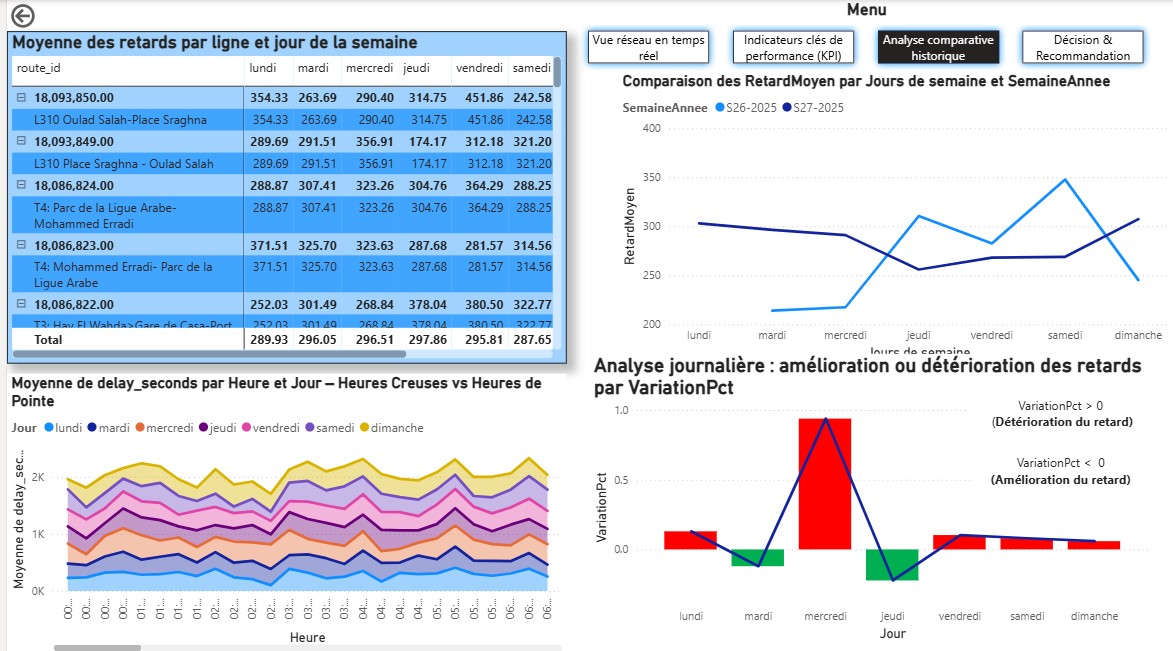

This screenshot's page, from the dashboard's own definition file:
{"tool":"powerbi","page":{"name":"Analyse comparative historique","canvas":[1280,720],"ordinal":2},"visuals":[{"type":"lineChart","title":"Comparaison des RetardMoyen par Jours de semaine et SemaineAnnee","fields":{"Y":["Trips.RetardMoyen"],"Series":["Trips.SemaineAnnee"],"Category":["Trips.Jour"]},"box":[671.7,78.3,608.3,321.7],"z":0},{"type":"pivotTable","title":"Moyenne des retards par ligne et jour de la semaine","fields":{"Rows":["Route.route_id","Route.route_name"],"Columns":["Trips.Jour"],"Values":["Trips.RetardMoyen"]},"box":[0,34.3,614.8,365],"z":1000},{"type":"stackedAreaChart","title":"Moyenne de delay_seconds par Heure et Jour – Heures Creuses vs Heures de Pointe","fields":{"Category":["Trips.Heure"],"Series":["Trips.Jour"],"Y":["Avg(Trips.delay_seconds)"]},"box":[0,410.3,614.8,310.1],"z":2000},{"type":"lineStackedColumnComboChart","title":"Analyse journalière : amélioration ou détérioration des retards par VariationPct","fields":{"Category":["Trips.Jour"],"Y":["Trips.VariationPct"],"Y2":["Trips.VariationPct"]},"box":[640,388.8,618.8,320],"z":3000},{"type":"shape","box":[1075.8,440.5,12.3,12.3],"z":4000},{"type":"shape","box":[1063.5,505,12.3,13.7],"z":5000},{"type":"textbox","box":[1055.2,430.9,203.1,63.1],"z":6000},{"type":"textbox","box":[1060.7,494,192.1,48],"z":7000},{"type":"pageNavigator","title":"Menu","box":[630,0,628.3,78.3],"z":8000},{"type":"actionButton","box":[0,0,35,35],"z":9000}]}

Visuals, with their boxes in screenshot pixels (x1, y1, x2, y2), scaled from the page's 1280x720 canvas onto the 1173x651 screenshot:
"Comparaison des RetardMoyen par Jours de semaine et SemaineAnnee" lineChart: select_region(616, 71, 1172, 362)
"Moyenne des retards par ligne et jour de la semaine" pivotTable: select_region(0, 31, 563, 361)
"Moyenne de delay_seconds par Heure et Jour – Heures Creuses vs Heures de Pointe" stackedAreaChart: select_region(0, 371, 563, 650)
"Analyse journalière : amélioration ou détérioration des retards par VariationPct" lineStackedColumnComboChart: select_region(586, 352, 1154, 641)
shape: select_region(986, 398, 997, 409)
shape: select_region(975, 457, 986, 469)
textbox: select_region(967, 390, 1153, 447)
textbox: select_region(972, 447, 1148, 490)
"Menu" pageNavigator: select_region(577, 0, 1153, 71)
actionButton: select_region(0, 0, 32, 32)
